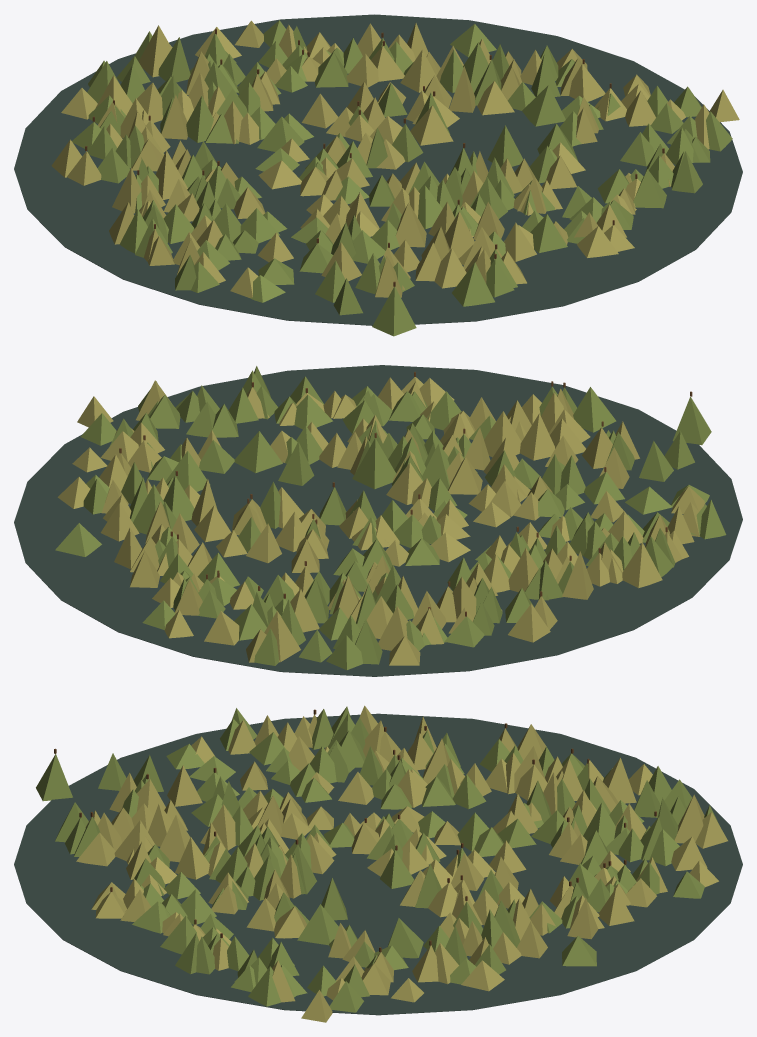
The model's file is greyfen-reed-bed.glb.
3 views of the same model, one above another, from view 1: azimuth 30°, elevation 25°; view 2: azimuth 150°, elevation 25°; view 3: azimuth 270°, elevation 25° (orthographic).
Parts seen in each view (by area): view 1: Body_Water, Body_Leaves2, Body_Leaves, Body_SeedHeads; view 2: Body_Water, Body_Leaves2, Body_Leaves, Body_SeedHeads; view 3: Body_Water, Body_Leaves, Body_Leaves2, Body_SeedHeads.
Part boxes in pixels (x1,y1,x2,y2): Body_Water: (14,14,742,325); Body_Leaves2: (72,20,732,336); Body_Leaves: (51,20,739,297); Body_SeedHeads: (85,29,664,286); Body_Water: (14,365,742,676); Body_Leaves2: (55,366,726,670); Body_Leaves: (57,377,704,665); Body_SeedHeads: (119,371,692,616); Body_Water: (14,713,742,1015); Body_Leaves: (76,705,727,1022); Body_Leaves2: (36,706,719,1012); Body_SeedHeads: (54,709,656,952).
Size of the model in its own units: 30 by 2.2 by 30.
